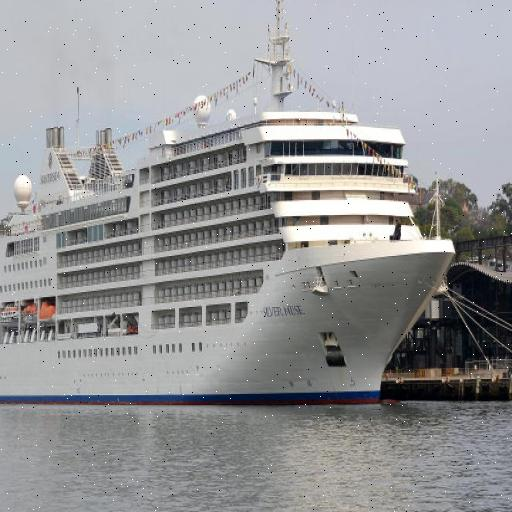cruises: (1, 1, 462, 421)
